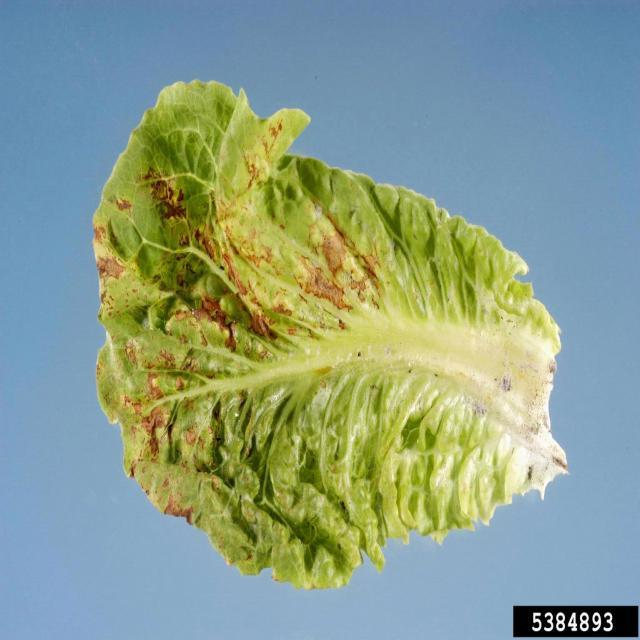Lettuce: (92, 67, 566, 589)
